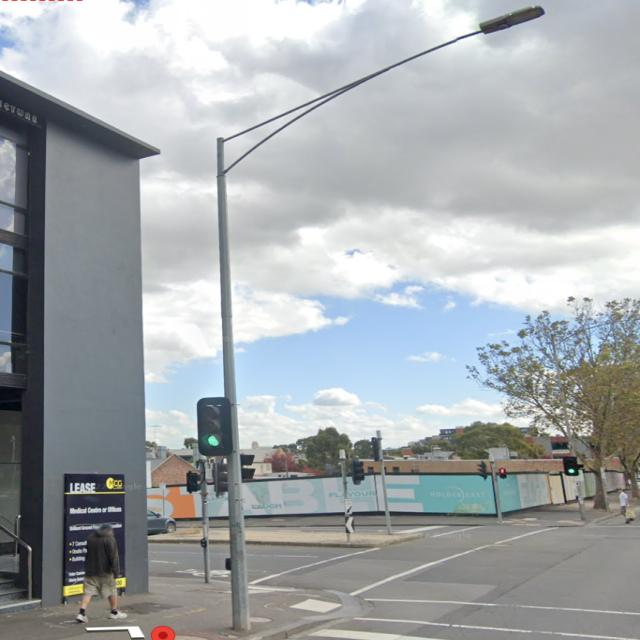mid mount suitable pole: (197, 3, 548, 633)
steel-pole: (215, 137, 252, 632), (550, 333, 587, 520), (374, 428, 393, 534), (197, 455, 211, 584), (338, 447, 352, 543), (487, 452, 504, 523)
streetlight: (222, 5, 547, 175)
traffic-light: (196, 398, 235, 456), (213, 458, 227, 497), (350, 458, 365, 486), (186, 471, 202, 494), (561, 456, 579, 476), (366, 437, 379, 462), (477, 461, 488, 480), (499, 467, 506, 479)
